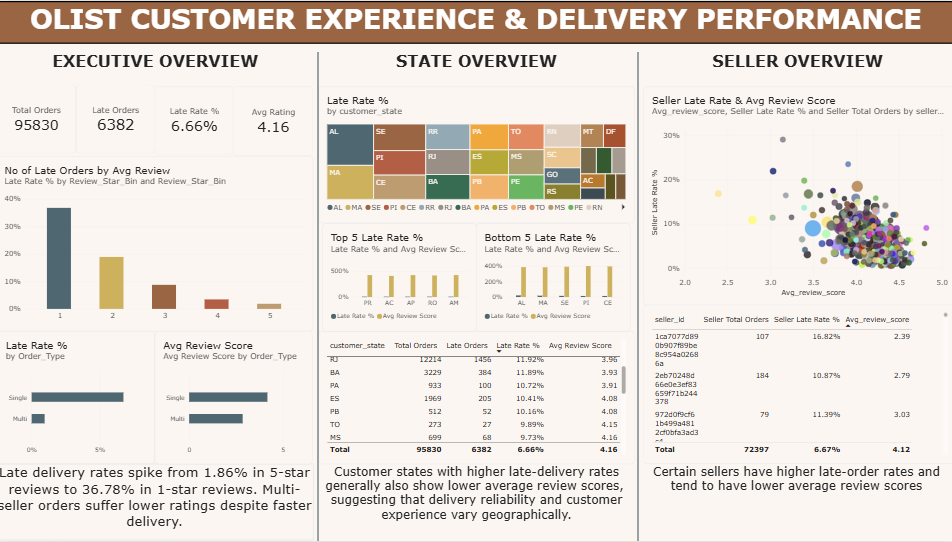

The dashboard page shown, as its layout file describes it:
{"tool":"powerbi","page":{"name":"Page 1","canvas":[1920,1080],"ordinal":0},"visuals":[{"type":"textbox","box":[0,0,1920,85.9],"z":0},{"type":"cardVisual","fields":{"Data":["customer_xperience.Total Orders"]},"box":[0.5,168.1,160,137.5],"z":1000},{"type":"cardVisual","fields":{"Data":["customer_xperience.Avg Review Score"]},"box":[475,170,158.3,140],"z":2000},{"type":"cardVisual","fields":{"Data":["customer_xperience.Late Orders"]},"box":[160.5,168.1,157.5,137.5],"z":3000},{"type":"cardVisual","fields":{"Data":["customer_xperience.Late Rate %"]},"box":[318,170.6,157.5,137.5],"z":4000},{"type":"columnChart","title":"No of Late Orders by Avg Review","fields":{"Category":["customer_xperience.Review_Star_Bin"],"Series":["customer_xperience.Review_Star_Bin"],"Y":["customer_xperience.Late Rate %"]},"box":[0,310,634,350],"z":5000},{"type":"clusteredBarChart","fields":{"Category":["seller_order.Order_Type"],"Y":["customer_xperience.Late Rate %"]},"box":[1.7,660,315,266.7],"z":6000},{"type":"textbox","box":[0,926,634,154],"z":7000},{"type":"treemap","fields":{"Group":["customer_xperience.customer_state"],"Values":["customer_xperience.Late Rate %"]},"box":[644,170,632,274],"z":8000},{"type":"tableEx","fields":{"Values":["customer_xperience.customer_state","customer_xperience.Total Orders","customer_xperience.Late Orders","customer_xperience.Late Rate %","customer_xperience.Avg Review Score"]},"box":[644,660,632,266],"z":9000},{"type":"textbox","box":[644,926,632,154],"z":10000},{"type":"shape","box":[633.8,102.5,18,978],"z":11000},{"type":"shape","box":[1275,101.7,18,978],"z":12000},{"type":"textbox","box":[1284,926,632,154],"z":13000},{"type":"scatterChart","title":"Seller Late Rate & Avg Review Score","fields":{"Category":["seller_order.seller_id"],"Series":["seller_order.seller_id"],"Size":["seller_order.Seller Total Orders"],"X":["seller_order.Avg_review_score"],"Y":["seller_order.Seller Late Rate %"]},"box":[1294,170,626,438],"z":14000},{"type":"clusteredColumnChart","title":"Top 5 Late Rate %","fields":{"Category":["customer_xperience.customer_state"],"Y":["customer_xperience.Late Rate %","customer_xperience.Avg Review Score"]},"box":[651.2,443.8,308.8,216.2],"z":15000},{"type":"clusteredColumnChart","title":"Bottom 5  Late Rate %","fields":{"Category":["customer_xperience.customer_state"],"Y":["customer_xperience.Late Rate %","customer_xperience.Avg Review Score"]},"box":[960,443.8,308.8,216.2],"z":16000},{"type":"tableEx","fields":{"Values":["seller_order.seller_id","seller_order.Seller Total Orders","seller_order.Seller Late Rate %","seller_order.Avg_review_score"]},"box":[1294,608,626,318],"z":17000},{"type":"textbox","box":[2,100,632,68],"z":18000},{"type":"textbox","box":[644,100,632,68],"z":19000},{"type":"textbox","box":[1288,100,632,68],"z":20000},{"type":"clusteredBarChart","title":"Avg Review Score","fields":{"Category":["seller_order.Order_Type"],"Y":["customer_xperience.Avg Review Score"]},"box":[318.3,660,315,266.7],"z":21000}]}

Visuals, with their boxes in screenshot pixels (x1, y1, x2, y2), scaled from the page's 1920x1080 canvas onto the 952x542 screenshot:
textbox: box(0, 0, 951, 43)
cardVisual - customer_xperience.Total Orders: box(0, 84, 80, 153)
cardVisual - customer_xperience.Avg Review Score: box(236, 85, 314, 156)
cardVisual - customer_xperience.Late Orders: box(80, 84, 158, 153)
cardVisual - customer_xperience.Late Rate %: box(158, 86, 236, 155)
"No of Late Orders by Avg Review" columnChart: box(0, 156, 314, 331)
clusteredBarChart - seller_order.Order_Type x customer_xperience.Late Rate %: box(1, 331, 157, 465)
textbox: box(0, 465, 314, 541)
treemap - customer_xperience.customer_state x customer_xperience.Late Rate %: box(319, 85, 633, 223)
tableEx - customer_xperience.customer_state x customer_xperience.Total Orders: box(319, 331, 633, 465)
textbox: box(319, 465, 633, 541)
shape: box(314, 51, 323, 541)
shape: box(632, 51, 641, 541)
textbox: box(637, 465, 950, 541)
"Seller Late Rate & Avg Review Score" scatterChart: box(642, 85, 951, 305)
"Top 5 Late Rate %" clusteredColumnChart: box(323, 223, 476, 331)
"Bottom 5  Late Rate %" clusteredColumnChart: box(476, 223, 629, 331)
tableEx - seller_order.seller_id x seller_order.Seller Total Orders: box(642, 305, 951, 465)
textbox: box(1, 50, 314, 84)
textbox: box(319, 50, 633, 84)
textbox: box(639, 50, 951, 84)
"Avg Review Score" clusteredBarChart: box(158, 331, 314, 465)
